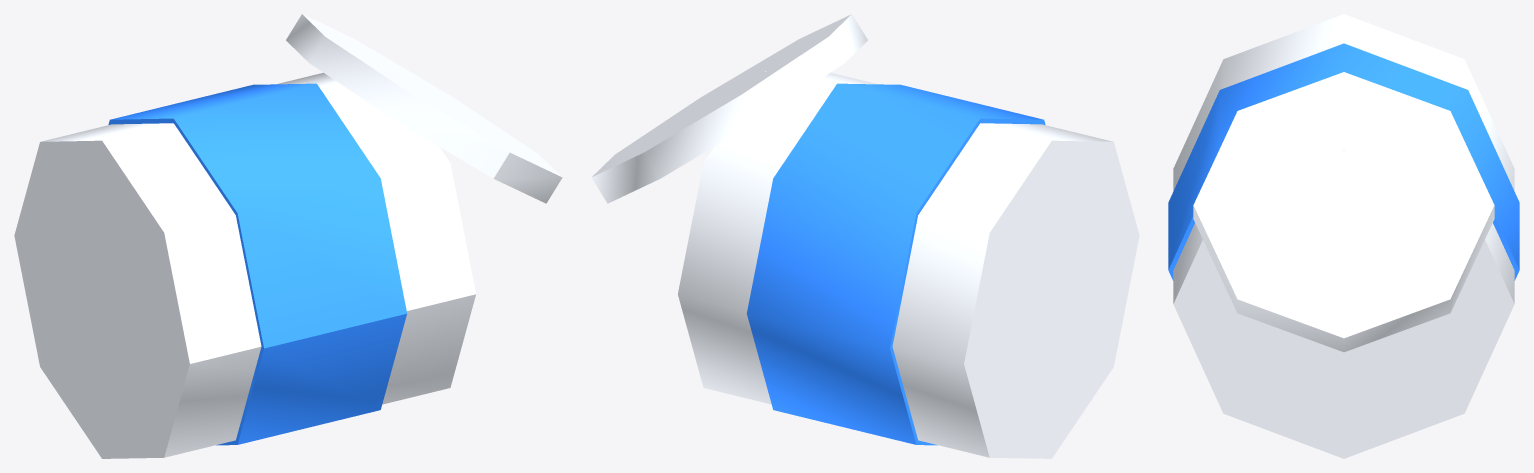
Rendered from trash-can-2.glb.
3 renders of one model, left to right at view 1: azimuth 30°, elevation 25°; view 2: azimuth 150°, elevation 25°; view 3: azimuth 270°, elevation 25°, orthographic. The views are drawn at different scales.
Parts seen in each view (by area): view 1: trash-can-2; view 2: trash-can-2; view 3: trash-can-2.
Part boxes in pixels (<box>): trash-can-2: <box>14,14,562,458</box>; trash-can-2: <box>591,14,1139,458</box>; trash-can-2: <box>1168,14,1519,458</box>.
Size of the model in its own units: 0.4885 by 0.3977 by 0.35.
